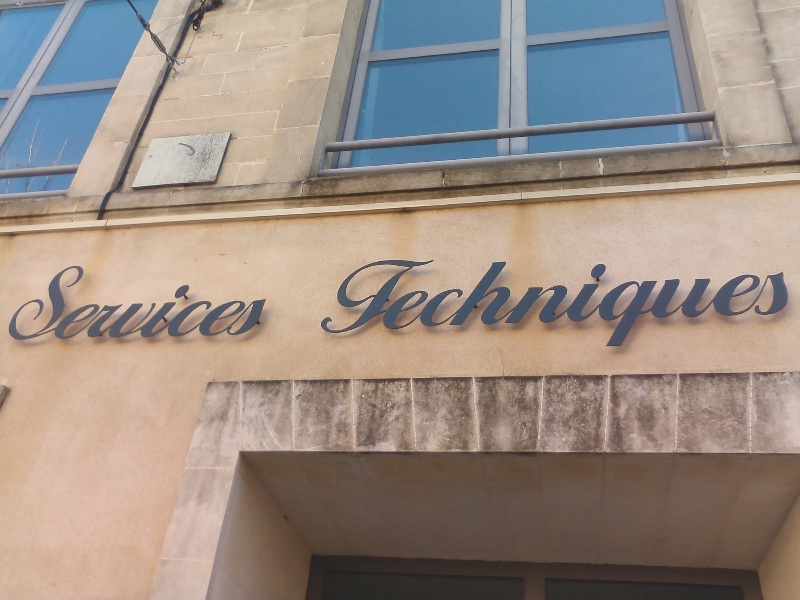text: (337, 240, 352, 353), (353, 240, 368, 353), (369, 240, 384, 353), (385, 240, 400, 353), (401, 240, 416, 353), (417, 240, 432, 353), (433, 240, 448, 353), (449, 240, 464, 353), (465, 240, 480, 353), (481, 240, 496, 353), (497, 240, 512, 353), (513, 240, 528, 353), (529, 240, 544, 353), (545, 240, 560, 353), (561, 240, 576, 353), (577, 240, 592, 353), (593, 240, 608, 353), (609, 240, 624, 353), (625, 240, 640, 353), (641, 240, 656, 353), (657, 240, 672, 353), (673, 240, 688, 353), (689, 240, 704, 353), (705, 240, 720, 353), (721, 240, 736, 353), (737, 240, 752, 353), (753, 240, 768, 353), (769, 240, 784, 353), (17, 262, 32, 340), (33, 262, 48, 340), (49, 262, 64, 340), (65, 262, 80, 340), (81, 262, 96, 340), (97, 262, 112, 340), (113, 262, 128, 340), (129, 262, 144, 340), (145, 262, 160, 340), (161, 262, 176, 340), (177, 262, 192, 340), (193, 262, 208, 340), (209, 262, 224, 340), (225, 262, 240, 340), (241, 262, 256, 340), (257, 262, 270, 340), (785, 240, 791, 353), (12, 262, 16, 340), (335, 240, 336, 353)
